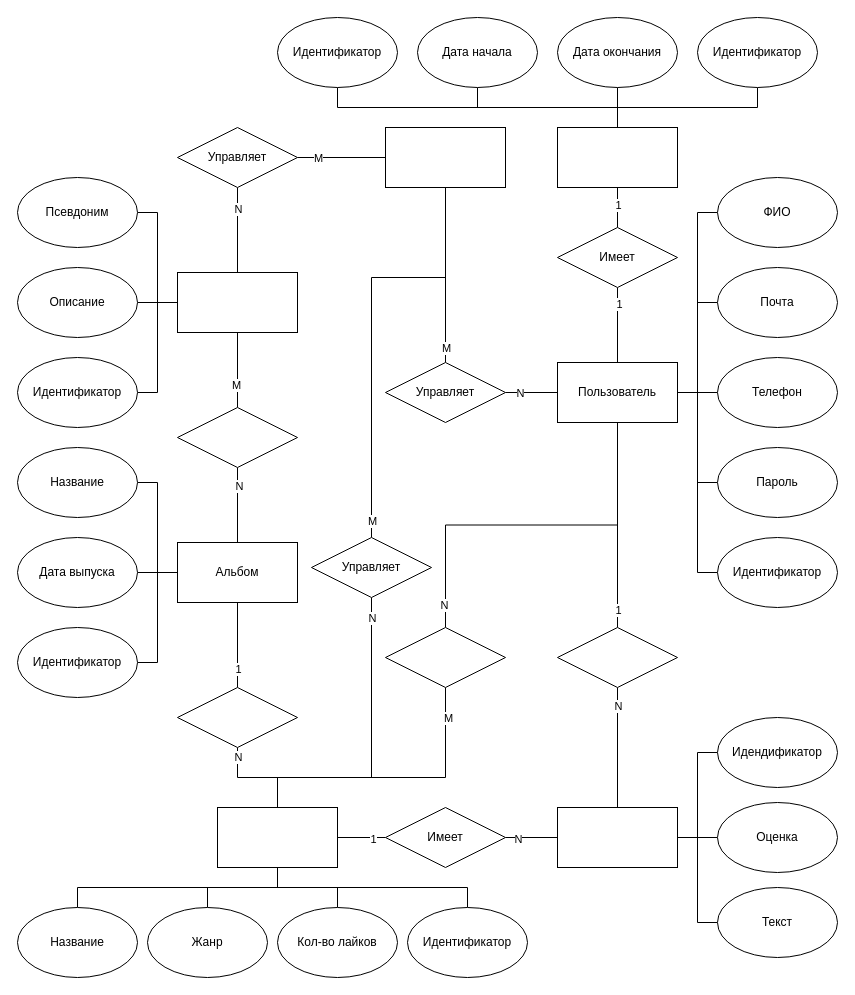
This 855x995 diagram has some shape labels left out. Each missing label, with the centre of its shape:
"Владеет" belongs at [237,437].
"Исполнитель" belongs at [237,302].
"Комментарий" belongs at [617,837].
"Модератор" belongs at [445,157].
"Подписка" belongs at [617,157].
"Публикует" belongs at [617,657].
"Содержит" belongs at [237,717].
"Трек" belongs at [277,837].
"Хранит" belongs at [445,657].
